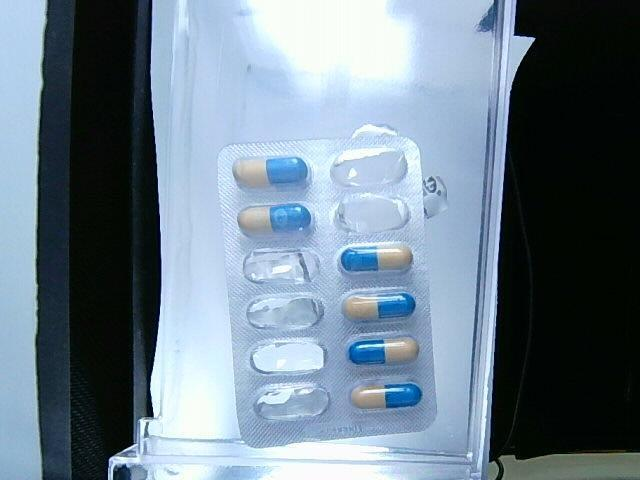Light Front: (215, 133, 438, 450)
No Pill Front: (330, 148, 407, 190), (335, 191, 410, 232), (250, 339, 325, 378), (254, 383, 329, 421), (246, 295, 323, 329), (244, 249, 319, 283)
Pill Front: (341, 289, 417, 324), (233, 156, 311, 190), (346, 331, 419, 365), (236, 203, 312, 234), (339, 244, 414, 275), (351, 381, 421, 407)
